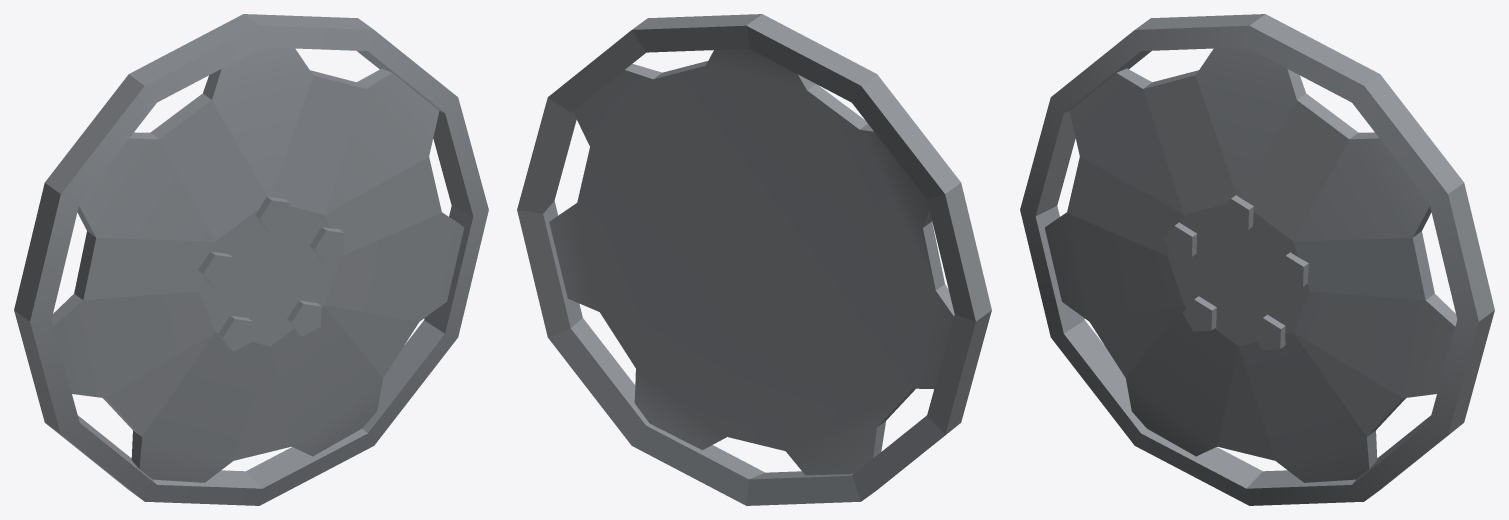
The model's file is SM_Prop_HubCap_04.fbx.
3 views of the same model, side by side, from view 1: azimuth 30°, elevation 25°; view 2: azimuth 150°, elevation 25°; view 3: azimuth 330°, elevation 25° (orthographic).
Visible parts, largest first — view 1: SM_Prop_HubCap_04; view 2: SM_Prop_HubCap_04; view 3: SM_Prop_HubCap_04.
Boxes of the visible parts, x1,y1,x2,y2 form: SM_Prop_HubCap_04: [14, 14, 488, 505]; SM_Prop_HubCap_04: [517, 14, 991, 505]; SM_Prop_HubCap_04: [1020, 14, 1494, 505].
Bounding box in the file's own units: 48.96 × 48.96 × 5.8.
